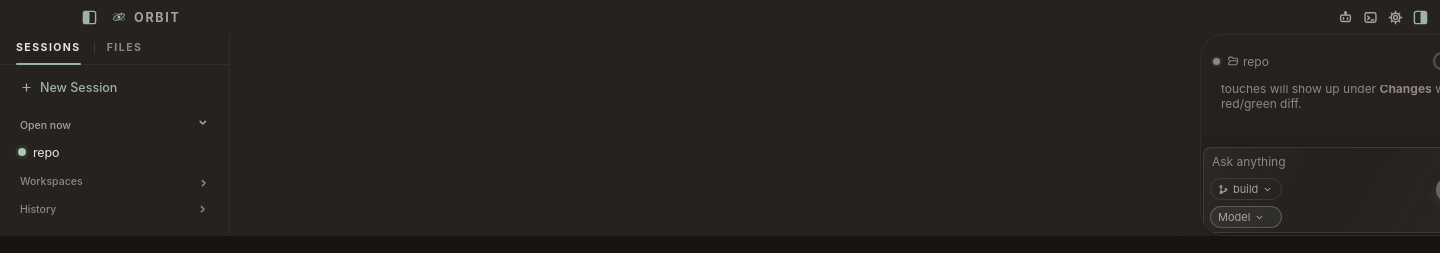
it: Layout panel sizing › repeatedly toggles the single agent panel closed and open from the titlebar
(page scrolled)
Step 1. Click the button named "Hide agent panel" → (1420, 17), box [1409,4,1432,30]
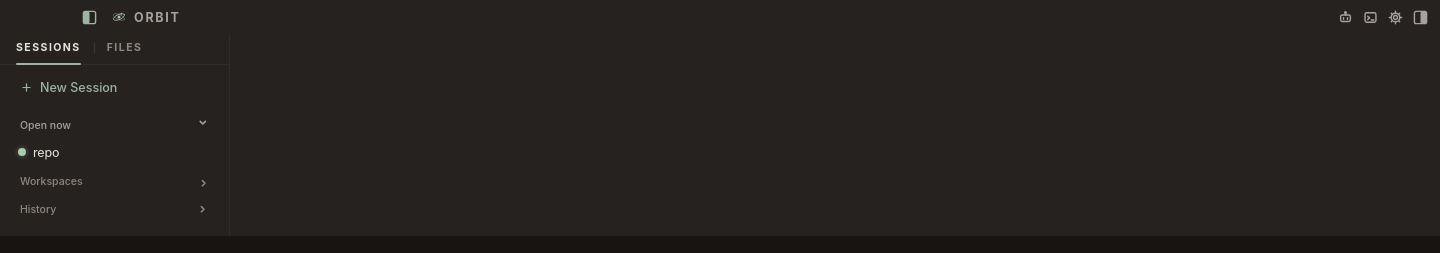
Expected: no elements with class "agent-panel" are shown
Step 2. Click the button named "Show agent panel" → (1420, 17), box [1409,4,1432,30]
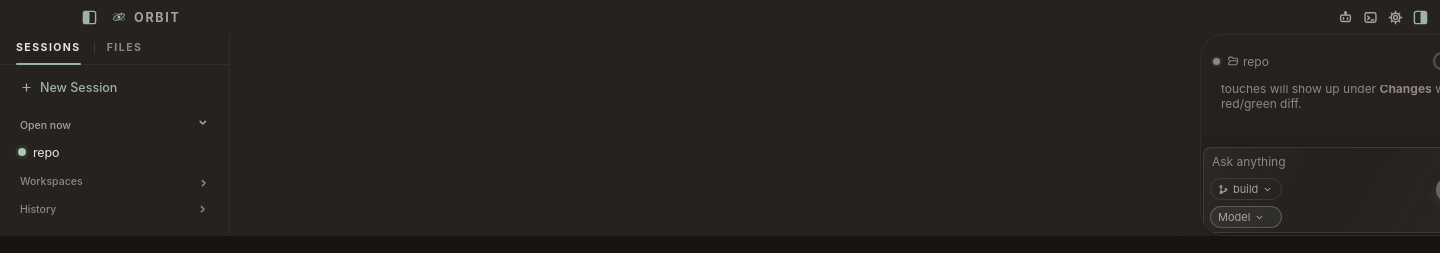
Expected: the number of elements with class "agent-panel" is 1, [1200,34,1439,236]
Step 3. Click the button named "Hide agent panel" → (1420, 17), box [1409,4,1432,30]
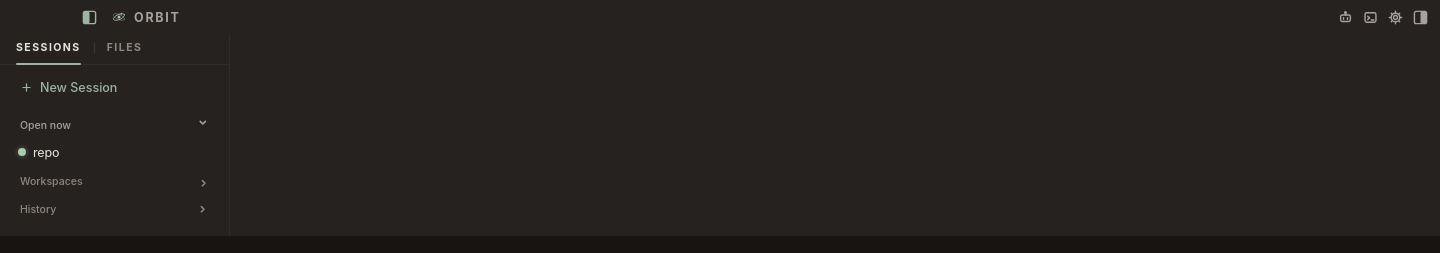
Expected: no elements with class "agent-panel" are shown
Step 4. Click the button named "Show agent panel" → (1420, 17), box [1409,4,1432,30]
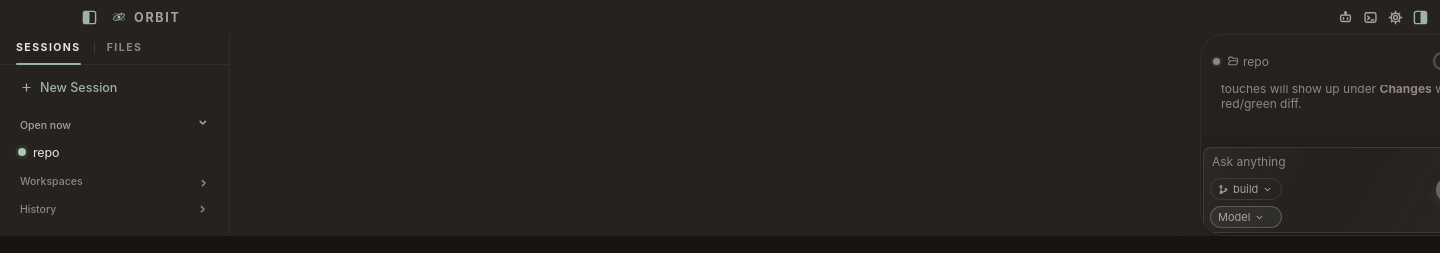
Expected: the number of elements with class "agent-panel" is 1, [1200,34,1439,236]
